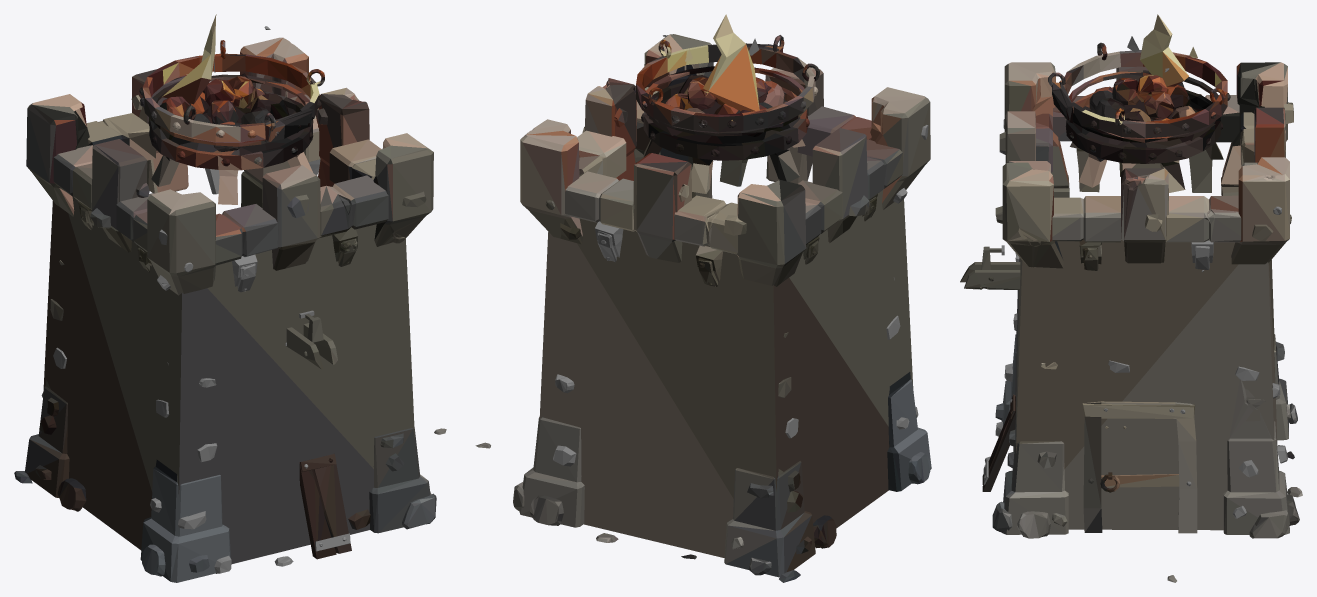
The model's file is Tower_North_Signal.glb.
3 views of the same model, side by side, from view 1: azimuth 30°, elevation 25°; view 2: azimuth 150°, elevation 25°; view 3: azimuth 270°, elevation 25° (orthographic). The views are drawn at different scales.
Parts seen in each view (by area): view 1: world; view 2: world; view 3: world.
Part boxes in pixels (x1=…): world: x1=14, y1=14, x2=446, y2=582; world: x1=475, y1=14, x2=931, y2=582; world: x1=960, y1=14, x2=1302, y2=582.
Bounding box in the file's own units: 0.8145 × 0.998 × 0.6777.
